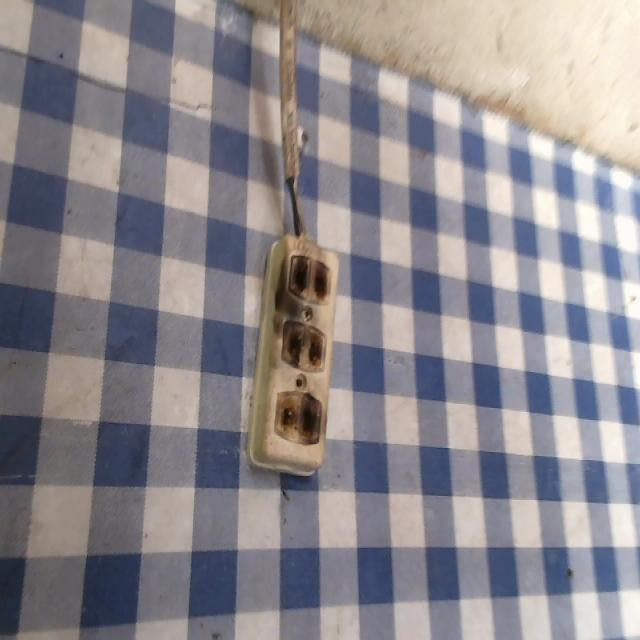-: (271, 387, 323, 442), (287, 248, 330, 311), (281, 317, 328, 373)
